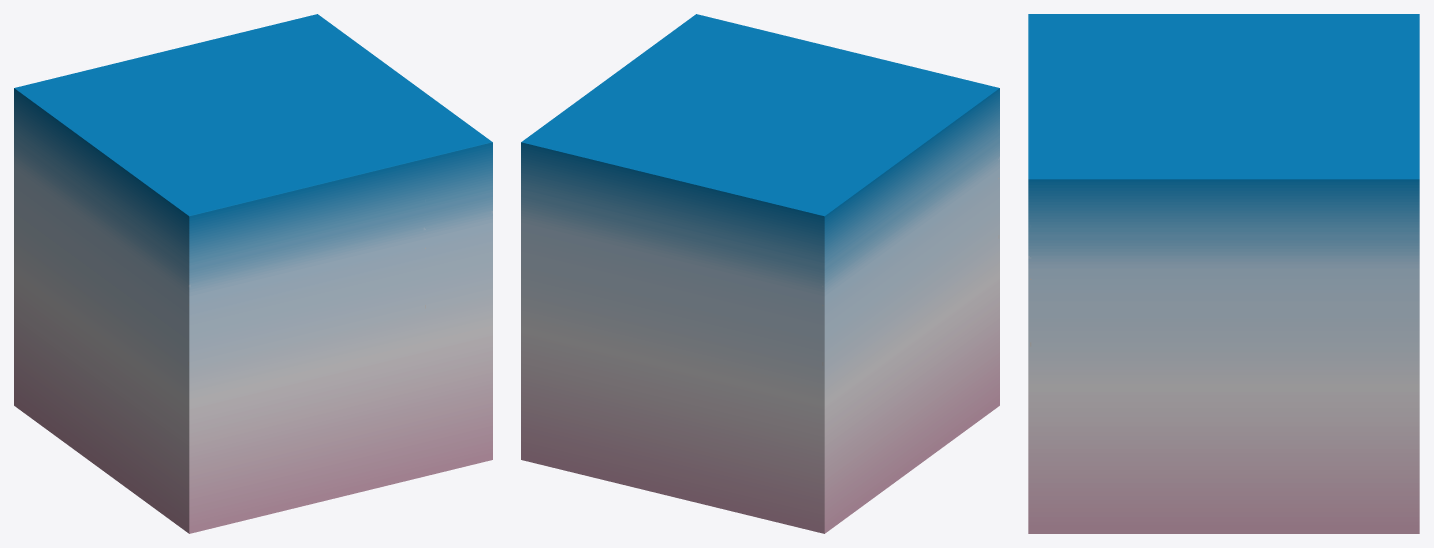
The model's file is BackGround.obj.
3 renders of one model, left to right at view 1: azimuth 30°, elevation 25°; view 2: azimuth 150°, elevation 25°; view 3: azimuth 270°, elevation 25°, orthographic. The views are drawn at different scales.
Size of the model in its own units: 25 by 25 by 25.
1 material, 1 textured.
